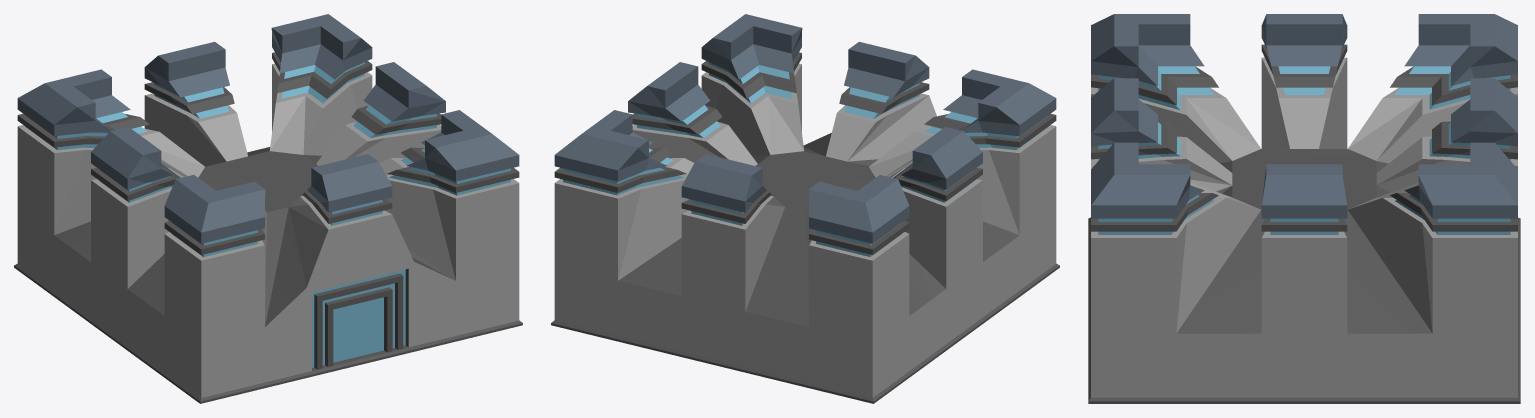
The picture shows the model from 3 angles, left to right: view 1: azimuth 30°, elevation 25°; view 2: azimuth 150°, elevation 25°; view 3: azimuth 270°, elevation 25°; orthographic projection. The views are drawn at different scales.
Visible parts, largest first — view 1: DimGray, PlayerColor; view 2: DimGray, PlayerColor; view 3: DimGray, PlayerColor.
Part boxes in pixels (x1,y1,x2,y2): DimGray: [14, 14, 522, 403]; PlayerColor: [26, 62, 510, 367]; DimGray: [551, 14, 1059, 403]; PlayerColor: [563, 62, 1047, 256]; DimGray: [1088, 14, 1520, 403]; PlayerColor: [1098, 66, 1510, 234].
Bounding box in the file's own units: 3 × 1.67 × 3.
